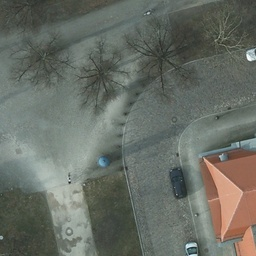car: (169, 167, 189, 200)
